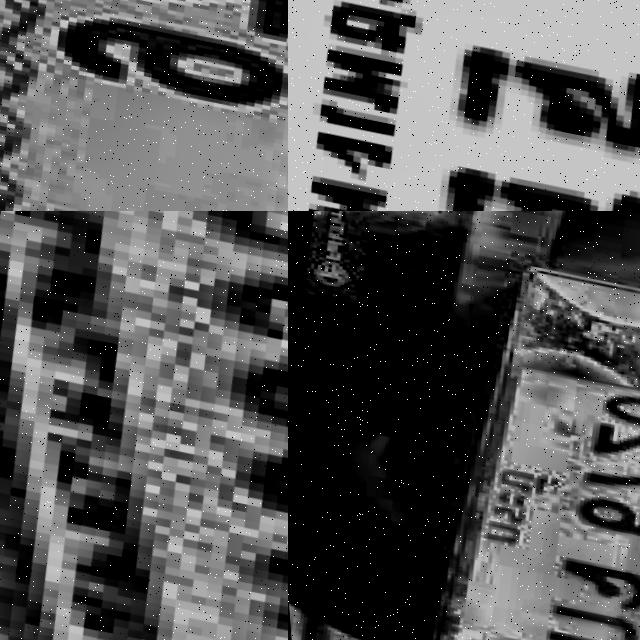license-plate: (329, 211, 640, 640), (0, 211, 288, 640), (288, 0, 640, 211), (0, 0, 288, 211)
